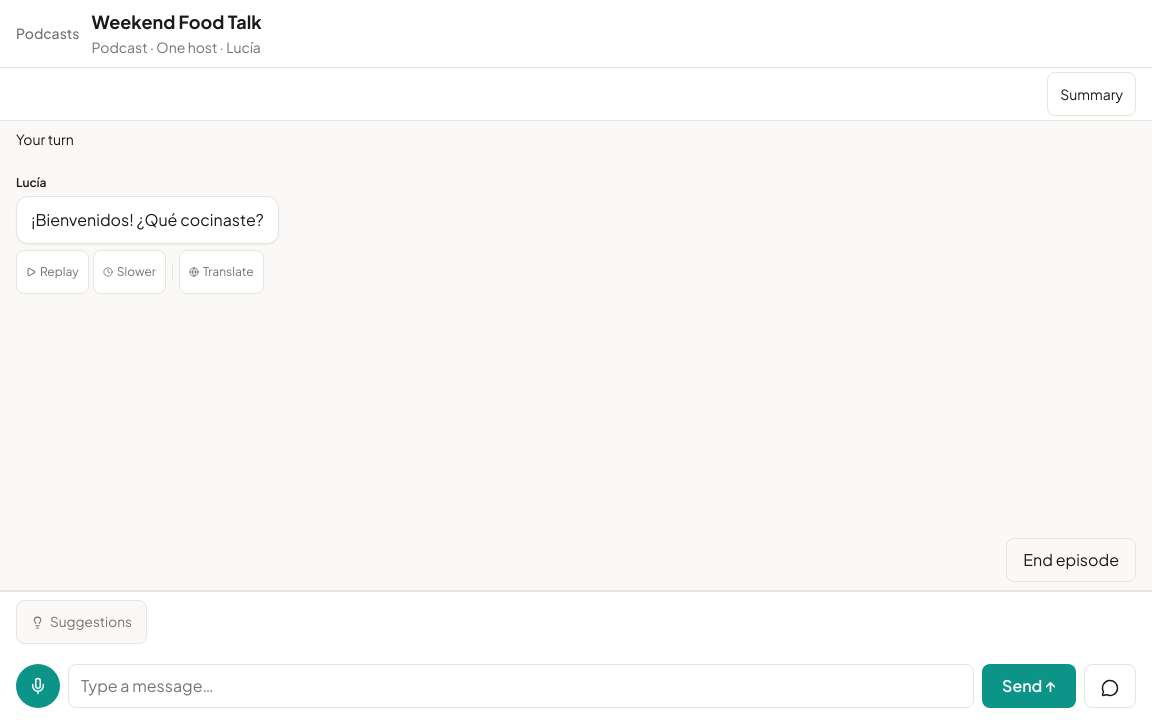
Test: PodcastEpisode page — One host › keeps the episode on screen when a new line scrolls in and the browser returns a promise from the scroll
Type "Paella" into the field labelled "Type a message" at (521, 686), box [68,664,974,708]
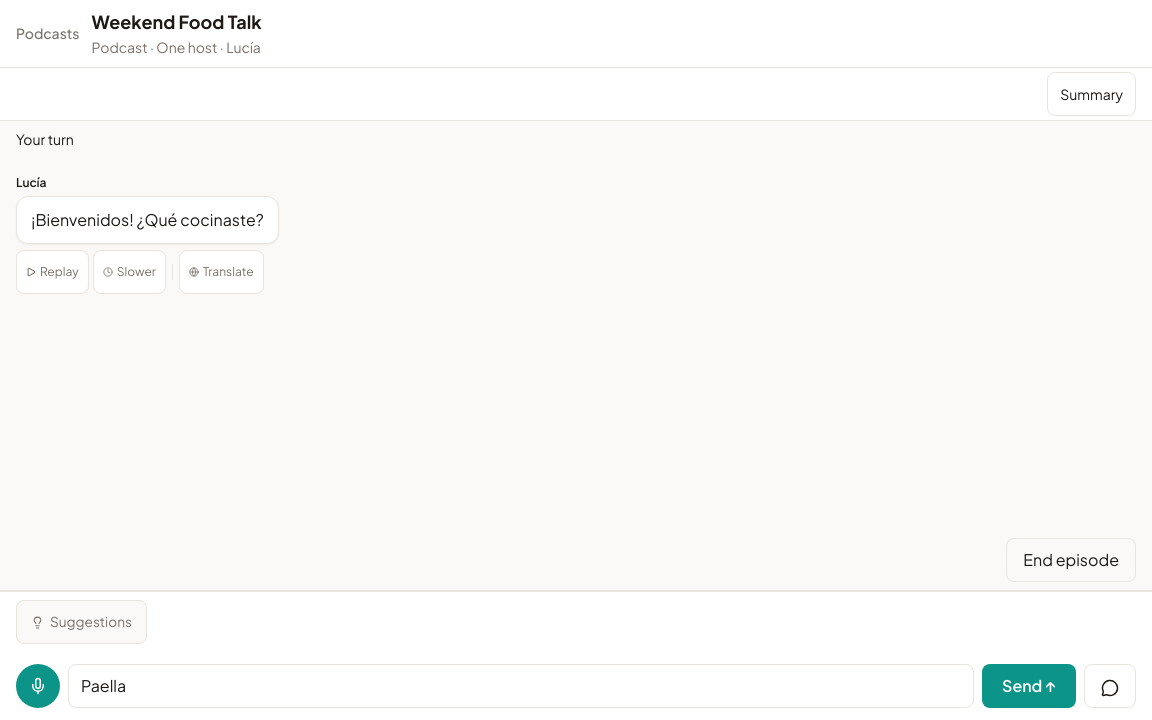
Click the button with aria-label "Send message" at (1029, 686), box [982,664,1076,708]
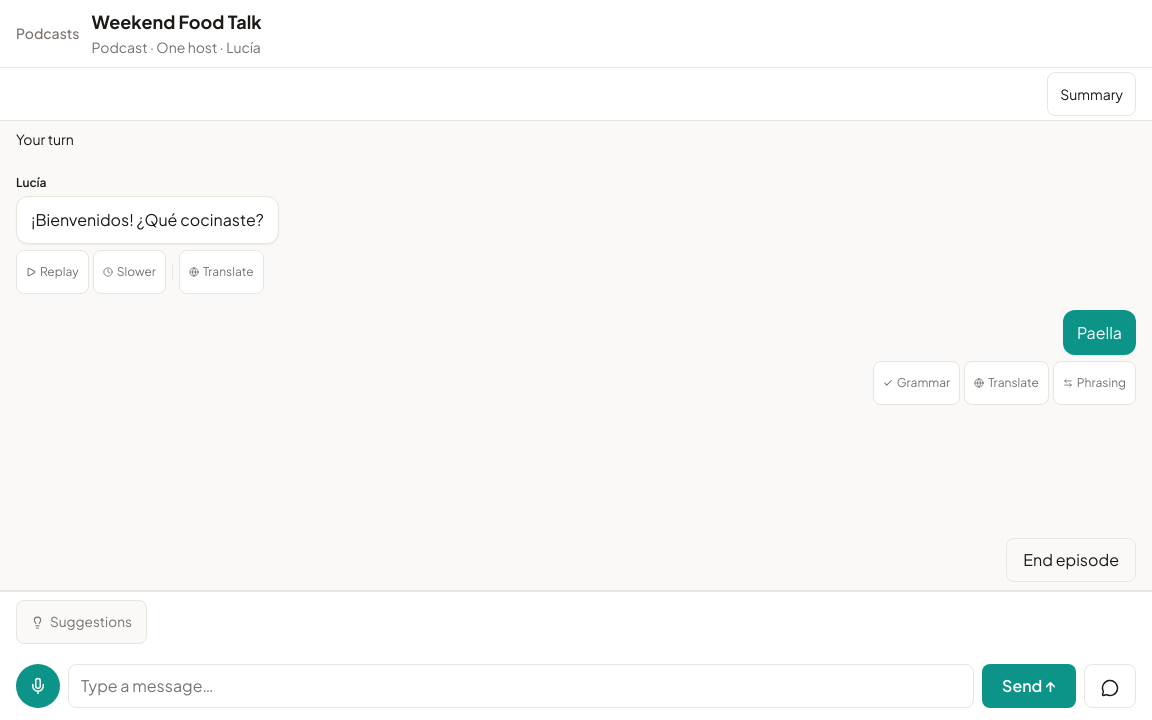
Check: the text "¡Bienvenidos! ¿Qué cocinaste?" is shown, box [31,209,264,230]
Check: the text "Paella" is shown, box [1077,322,1122,343]
